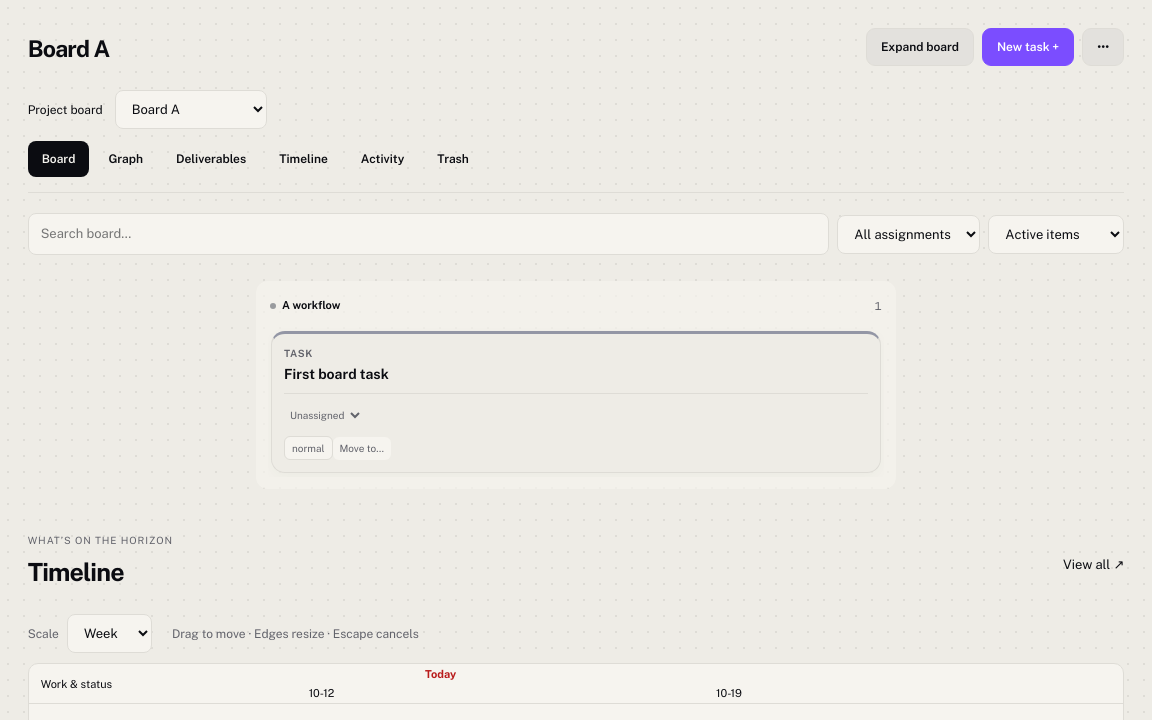
Test: switches project tasks and workflows with the selected board
The image size is (1152, 720).
Expected: the button "First board task" is shown, [284,365,389,385]
Expected: the heading "Board A" is shown, [28,35,110,64]
Select "Board B" in the dropdown labelled "Project board" at (191, 110), box [115,90,267,129]
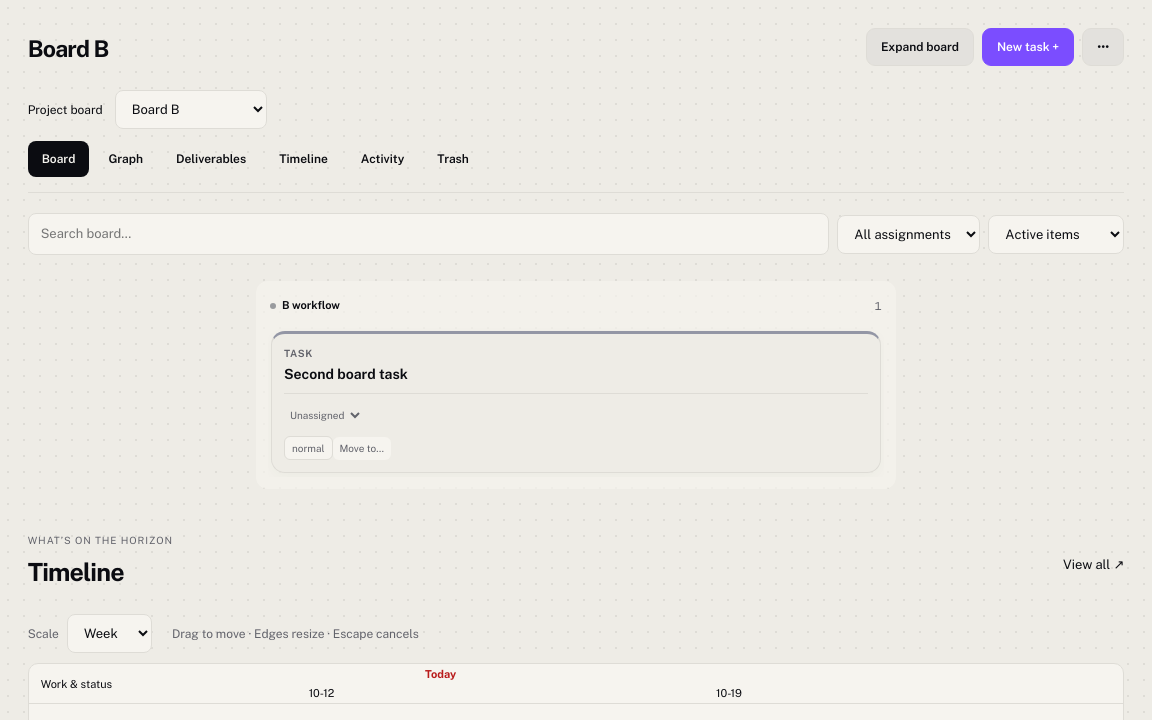
Expected: the button "Second board task" is shown, [284,365,408,385]
Expected: the heading "Board B" is shown, [28,35,109,64]
Expected: the button "First board task" is gone
